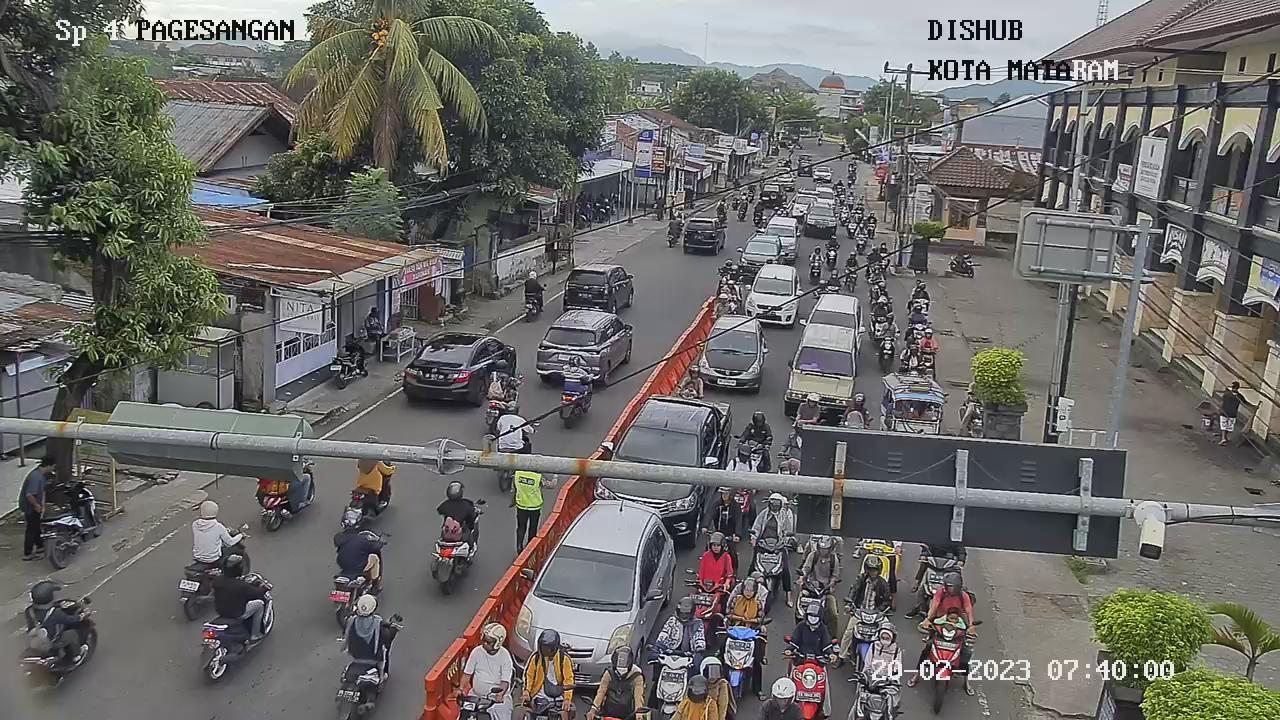car: (509, 491, 678, 665), (599, 386, 732, 524), (397, 332, 518, 407), (782, 314, 871, 405), (538, 309, 635, 385), (695, 317, 771, 394), (562, 265, 638, 316), (752, 263, 808, 324), (802, 284, 863, 338), (758, 213, 802, 259), (680, 219, 726, 256), (740, 234, 788, 268), (802, 200, 838, 240)
motorbike: (921, 617, 977, 706), (710, 612, 768, 693), (773, 644, 837, 717), (640, 643, 699, 720), (841, 601, 898, 671), (745, 524, 796, 597), (680, 569, 732, 638), (779, 569, 837, 628), (913, 545, 965, 608), (848, 671, 910, 720), (875, 333, 898, 376), (844, 265, 861, 294), (805, 257, 823, 284), (823, 243, 838, 268), (853, 231, 868, 254)
person: (519, 623, 581, 706), (457, 618, 516, 701), (588, 642, 647, 720), (337, 591, 395, 668), (22, 572, 75, 652), (784, 598, 835, 669), (919, 573, 973, 639), (433, 479, 485, 547), (653, 595, 707, 660), (681, 652, 730, 720), (186, 496, 233, 565), (332, 504, 378, 574), (844, 551, 893, 615), (212, 555, 261, 616), (859, 620, 905, 683), (799, 529, 842, 590), (749, 489, 794, 546), (700, 482, 743, 541), (721, 574, 764, 627), (693, 532, 737, 583), (491, 400, 532, 450), (837, 389, 872, 432), (484, 356, 519, 397), (558, 350, 592, 392), (738, 409, 773, 449), (790, 392, 825, 431), (726, 443, 757, 478), (521, 269, 548, 296), (710, 290, 734, 319), (898, 344, 922, 372), (879, 313, 900, 338), (870, 295, 891, 318), (908, 302, 929, 325), (871, 280, 889, 303), (910, 281, 929, 302), (919, 328, 937, 350), (807, 243, 826, 263), (824, 268, 842, 289), (867, 263, 884, 283), (866, 244, 882, 265), (825, 233, 841, 251), (875, 238, 889, 258), (843, 250, 859, 267), (853, 221, 869, 238), (865, 210, 879, 227)
